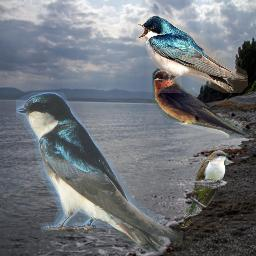Cuckoo: (180, 149, 229, 228)
Swallow: (16, 92, 183, 254), (136, 14, 248, 93), (152, 68, 250, 138)
